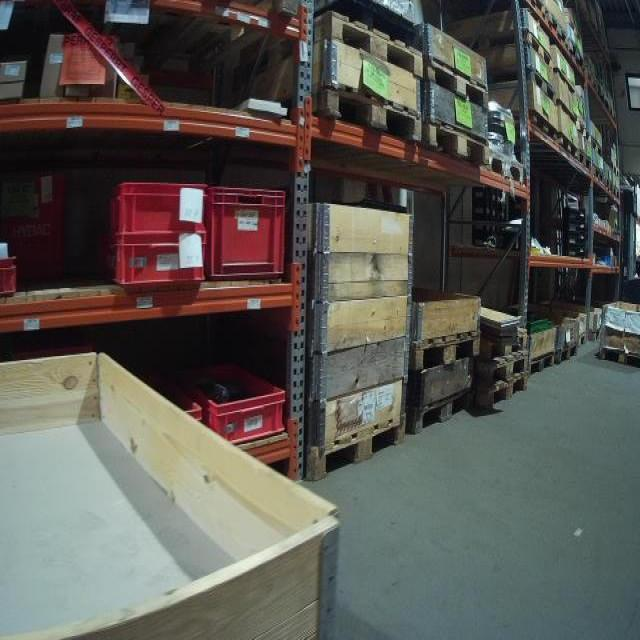pallet: (276, 91, 422, 146), (315, 11, 424, 78), (302, 415, 405, 480), (456, 28, 553, 73), (421, 116, 493, 165), (412, 330, 480, 378), (414, 380, 475, 433), (426, 57, 489, 108), (493, 114, 556, 150), (486, 72, 556, 104), (483, 375, 528, 410), (482, 351, 528, 385), (486, 331, 527, 362), (538, 134, 580, 164), (489, 157, 530, 184), (532, 344, 558, 380), (554, 342, 582, 374), (582, 127, 606, 160), (604, 352, 640, 373), (575, 329, 593, 356), (586, 165, 603, 186), (577, 155, 593, 175)
small_load_carrier: (179, 374, 285, 442), (209, 187, 286, 278), (103, 185, 208, 242), (132, 366, 204, 441), (101, 243, 208, 288), (2, 248, 16, 297), (595, 255, 614, 267)
